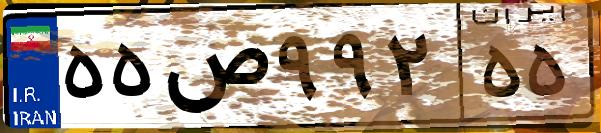2: (385, 28, 445, 110)
5: (57, 26, 110, 100), (475, 38, 525, 113), (525, 38, 570, 115), (110, 28, 158, 98)
9: (270, 28, 330, 110), (330, 28, 385, 110)
ص: (158, 20, 270, 120)
